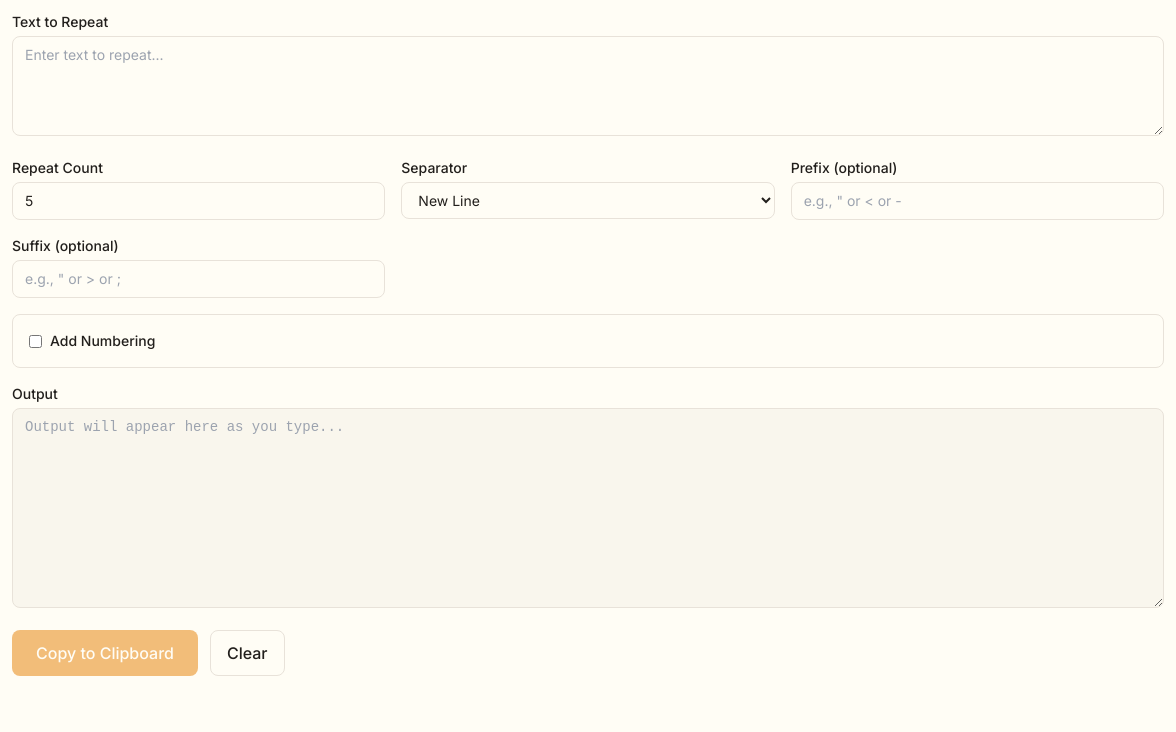
it: TextRepeater › clears all fields when Clear is clicked
Type "something" into the text box labelled "text to repeat" at (588, 86), box [12,36,1164,136]
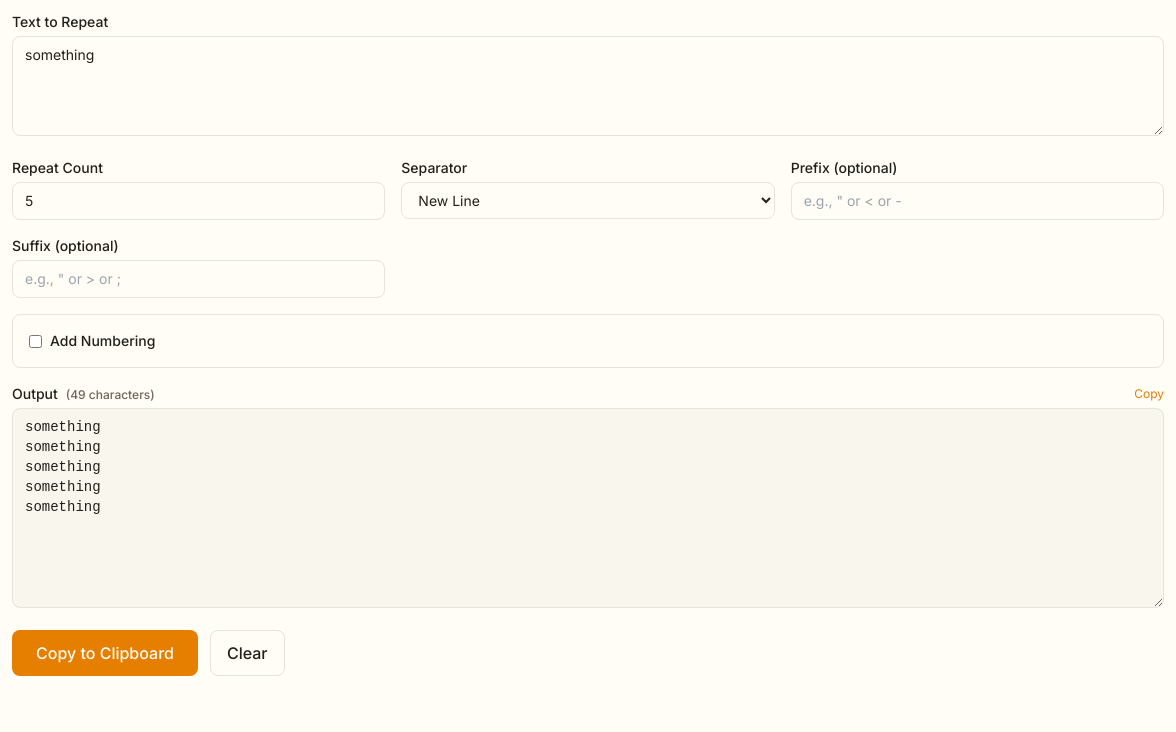
Click the button "Clear" at (247, 653), box [210,630,284,676]
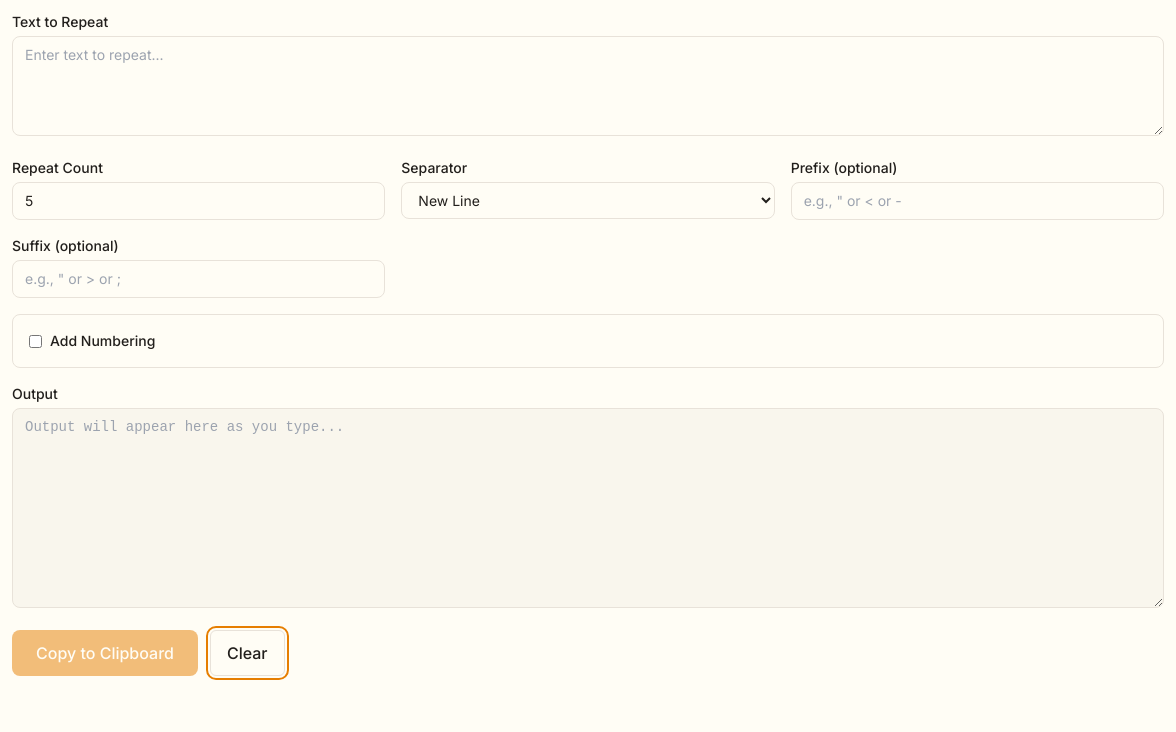
expect the text box labelled "text to repeat" is empty: met, box [12,36,1164,136]
